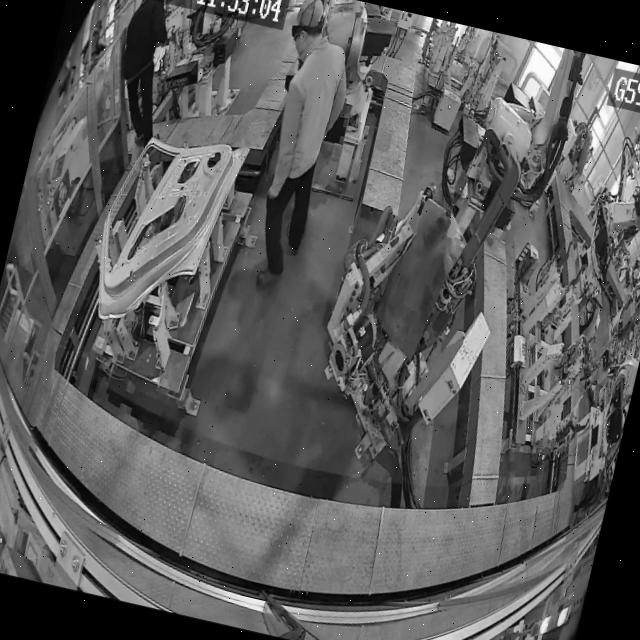Person: (225, 0, 366, 295), (100, 0, 189, 150), (417, 16, 437, 64)
